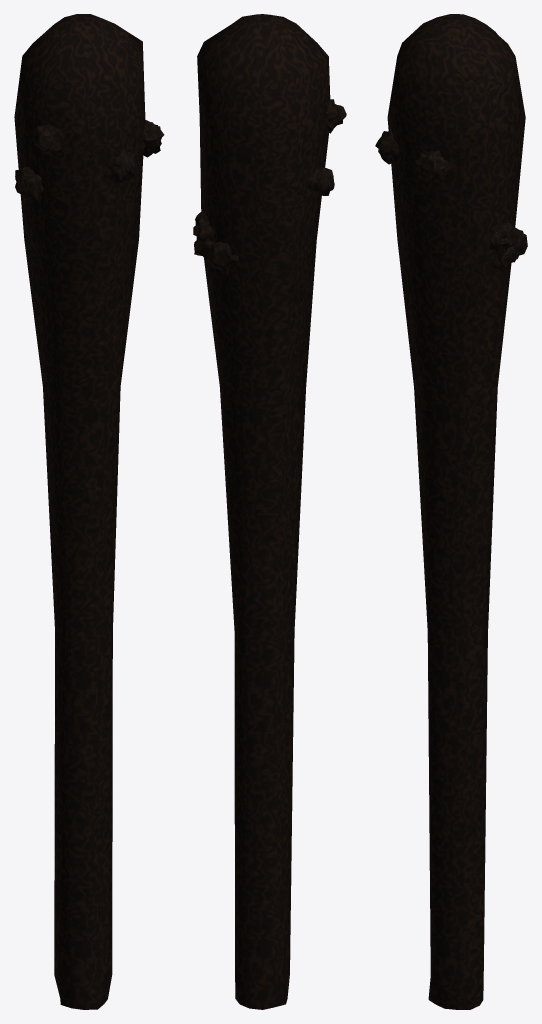
File: club.glb
3 views of the same model, side by side, from view 1: azimuth 30°, elevation 25°; view 2: azimuth 150°, elevation 25°; view 3: azimuth 270°, elevation 25° (orthographic).
Parts seen in each view (by area): view 1: club; view 2: club; view 3: club.
Boxes of the visible parts, <box> form: club: <box>14,14,164,1009</box>; club: <box>193,14,346,1009</box>; club: <box>375,14,527,1009</box>.
Size of the model in its own units: 0.1164 by 0.8 by 0.113.
1 material, 1 textured.
